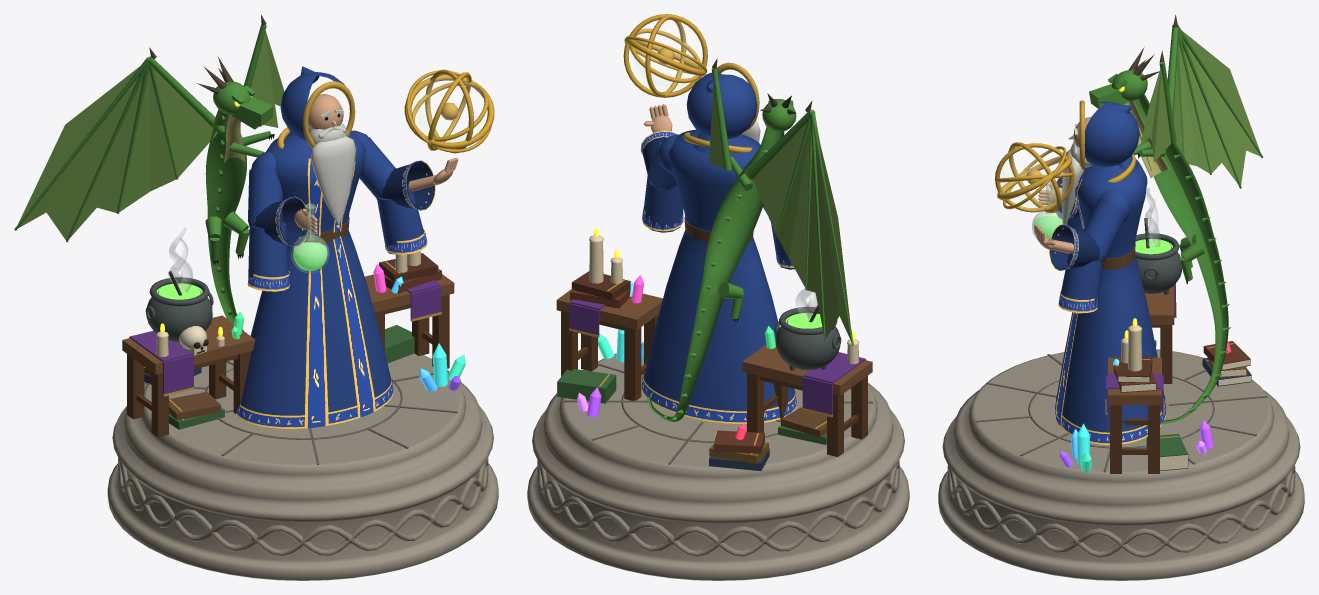
The model's file is 21-alchemist.glb.
3 renders of one model, left to right at view 1: azimuth 30°, elevation 25°; view 2: azimuth 150°, elevation 25°; view 3: azimuth 270°, elevation 25°, orthographic. The views are drawn at different scales.
Parts seen in each view (by area): view 1: Alchemist; view 2: Alchemist; view 3: Alchemist.
Boxes of the visible parts, x1,y1,x2,y2 form: Alchemist: [14, 15, 498, 580]; Alchemist: [527, 14, 909, 580]; Alchemist: [938, 15, 1304, 580].
Size of the model in its own units: 7.65 by 9.08 by 6.76.
54 materials, 2 textured.
